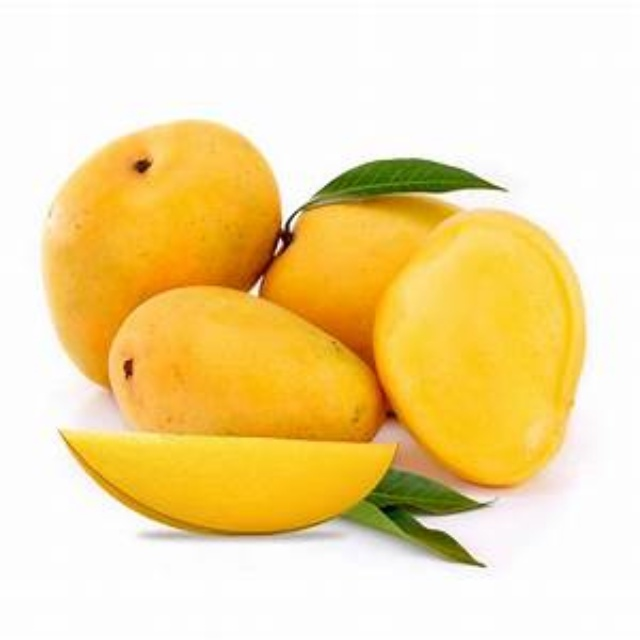mango: (42, 115, 283, 389), (377, 205, 587, 490), (112, 285, 398, 448), (268, 173, 458, 374)
